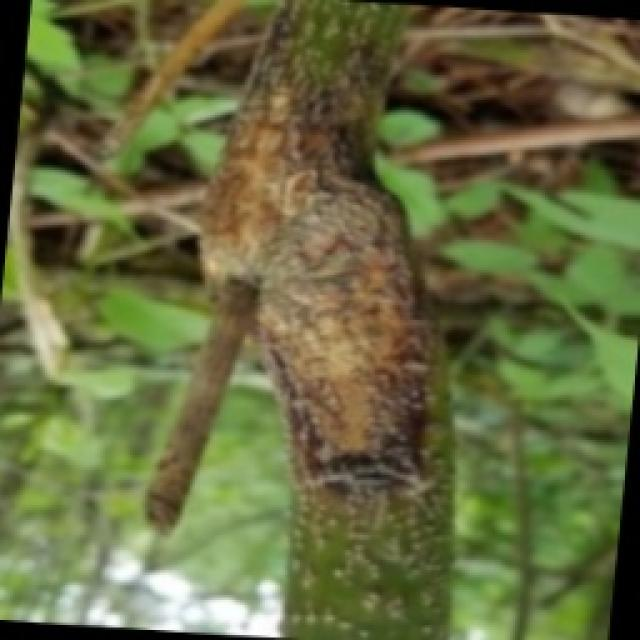Golden_canker: (112, 12, 542, 640)
